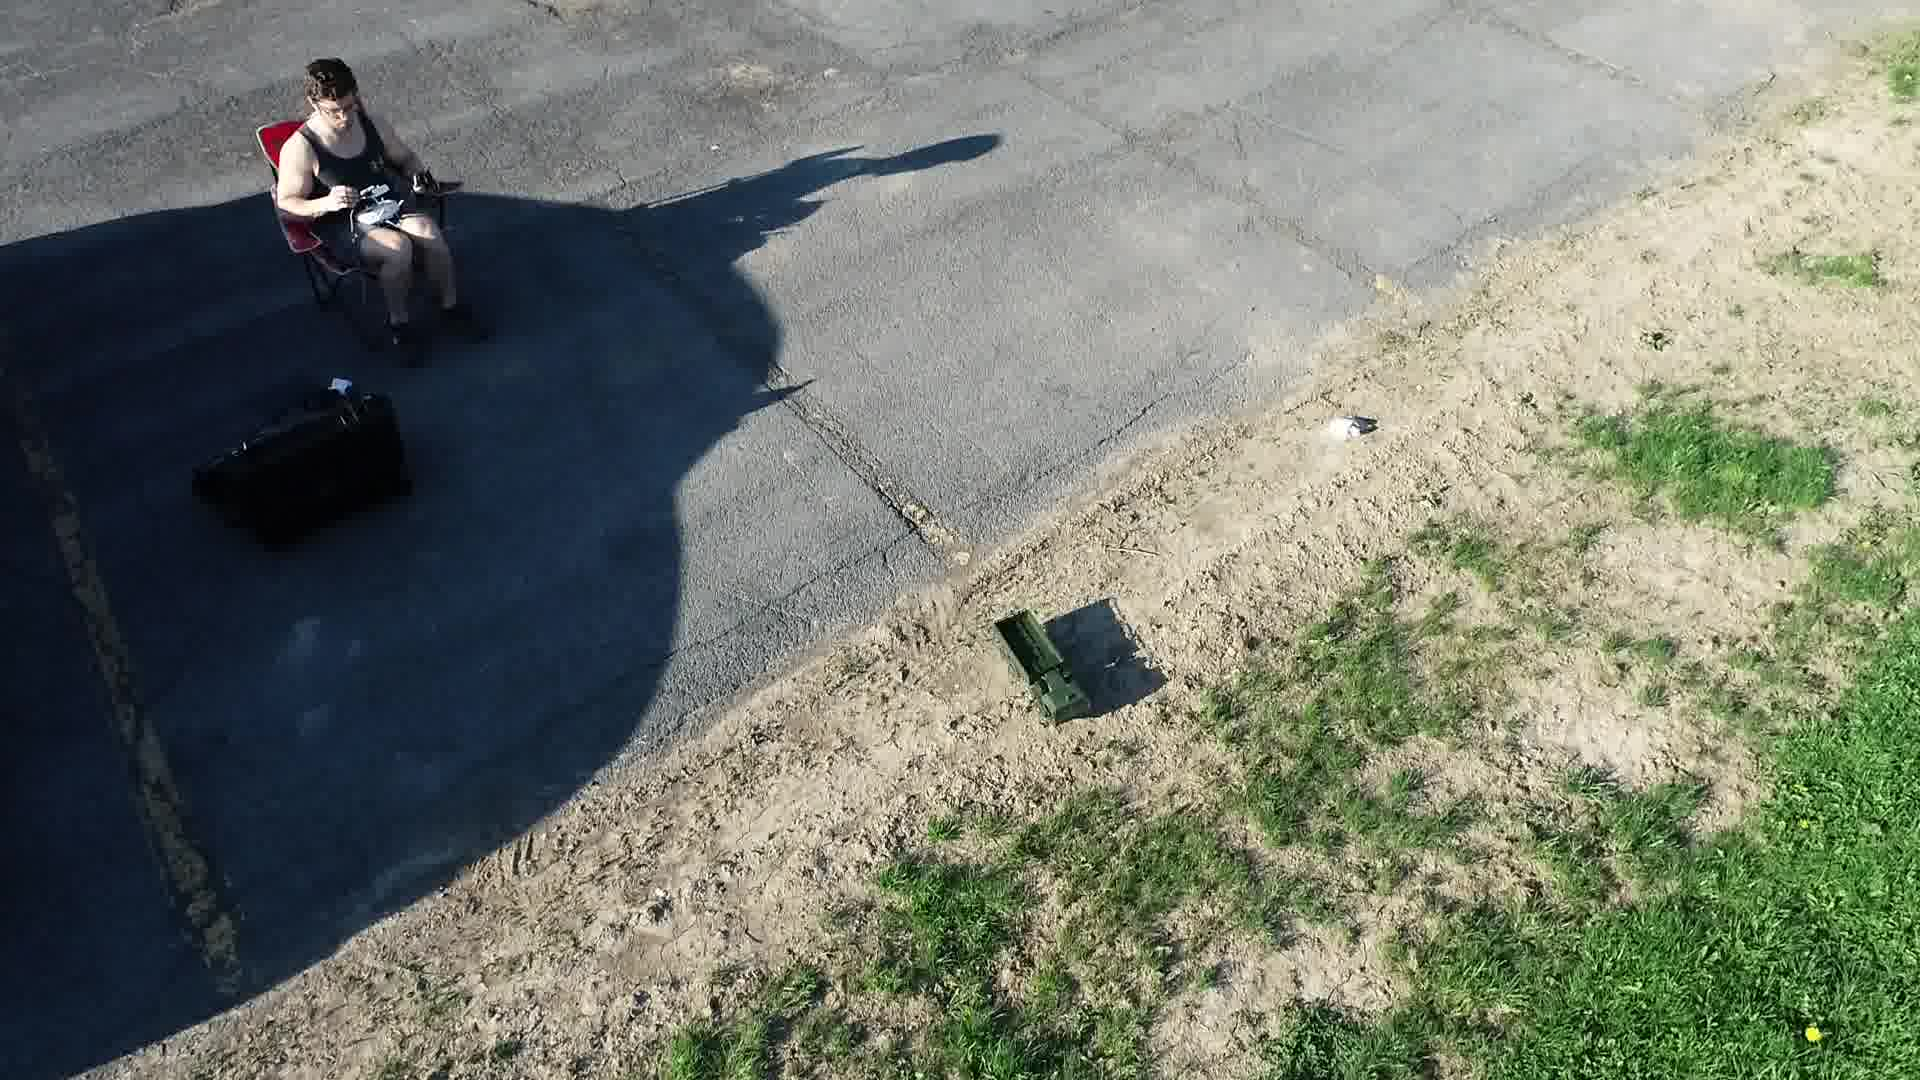transporter9: (985, 605, 1093, 729)
